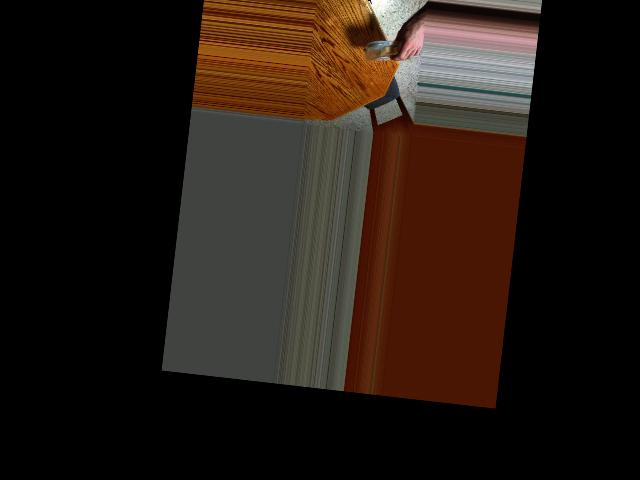cheese: (362, 20, 414, 73)
